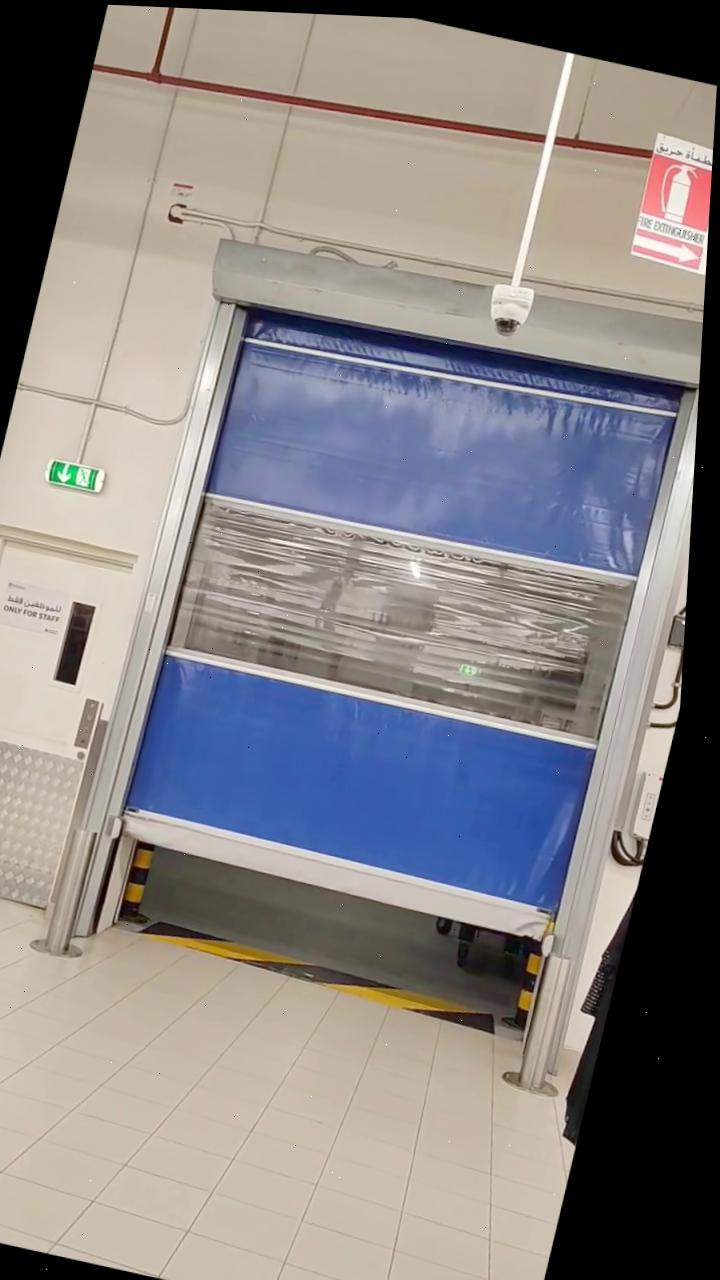Strip: (146, 909, 521, 1039)
